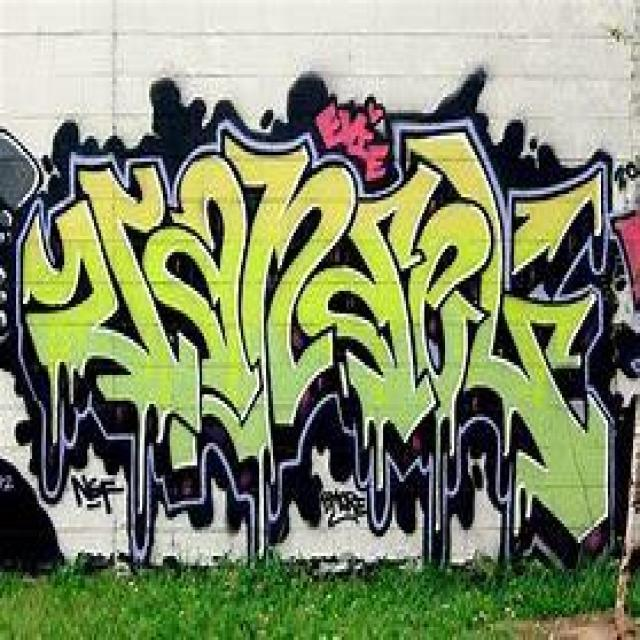nonspitting: (11, 97, 640, 572)
